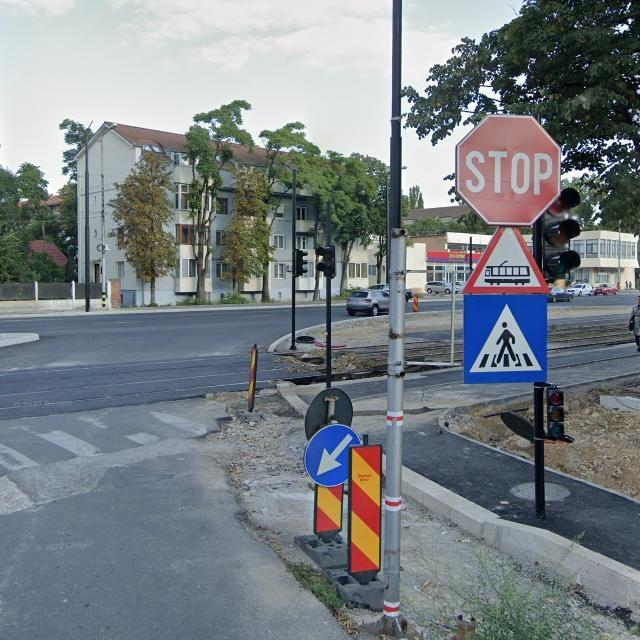info_crosswalk: (462, 292, 549, 384)
prio_stop: (456, 115, 559, 227)
